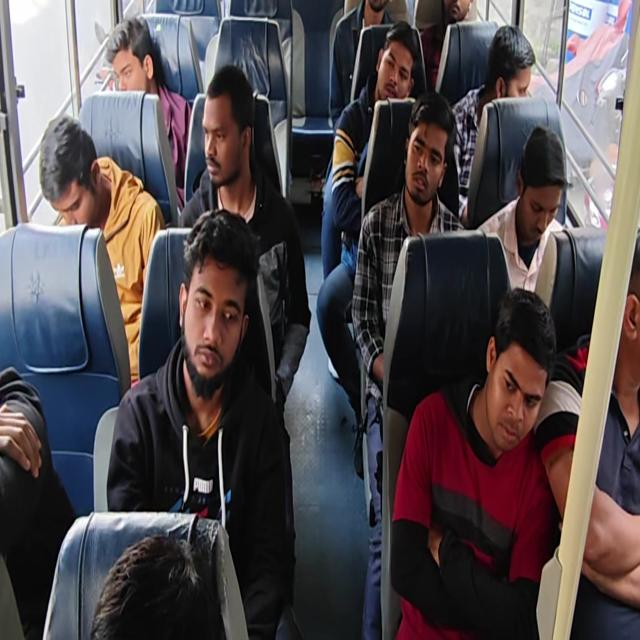person: (175, 206, 259, 410), (82, 515, 211, 640), (485, 280, 555, 447), (40, 104, 110, 219), (402, 91, 460, 215), (196, 59, 254, 178), (518, 130, 573, 246), (604, 223, 640, 398), (103, 12, 159, 99), (378, 24, 417, 101), (442, 0, 479, 35), (360, 0, 397, 15)
